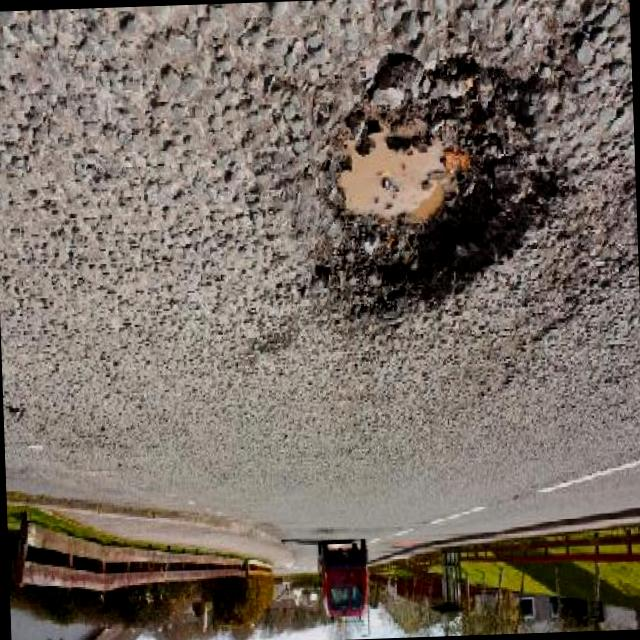pothole: (287, 36, 563, 326)
